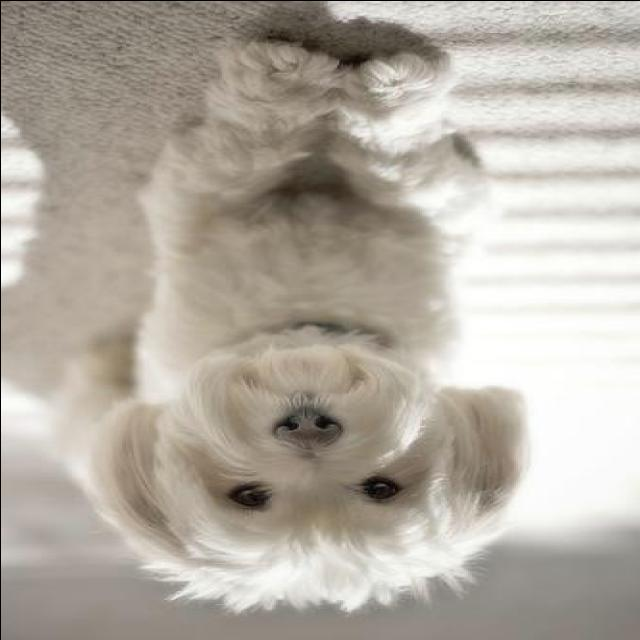maltese_dog: (46, 37, 532, 613)
